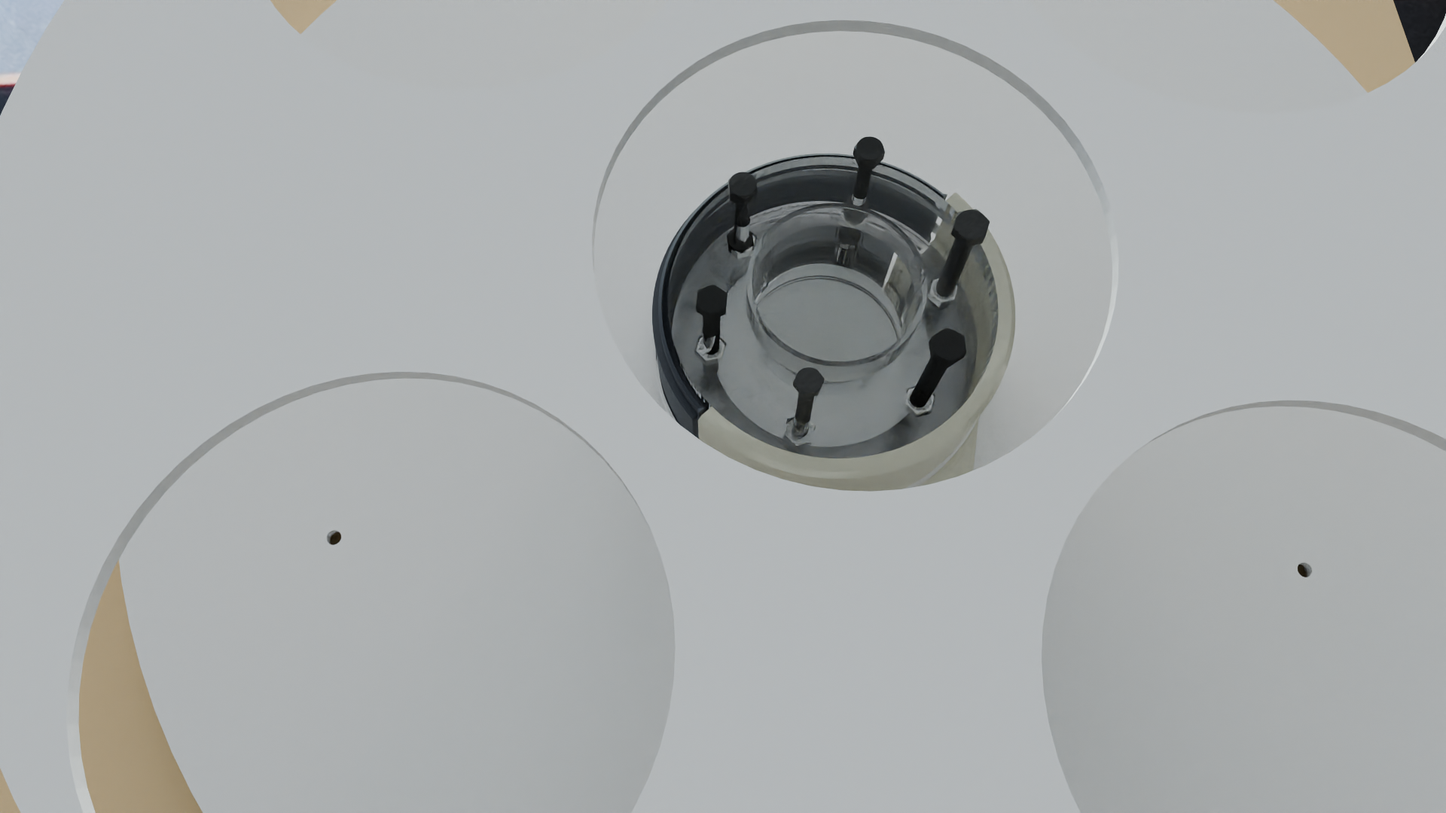bolt: (932, 327, 966, 362), (953, 209, 990, 240), (696, 285, 728, 315), (854, 136, 885, 163), (794, 367, 825, 394), (728, 172, 758, 199)
